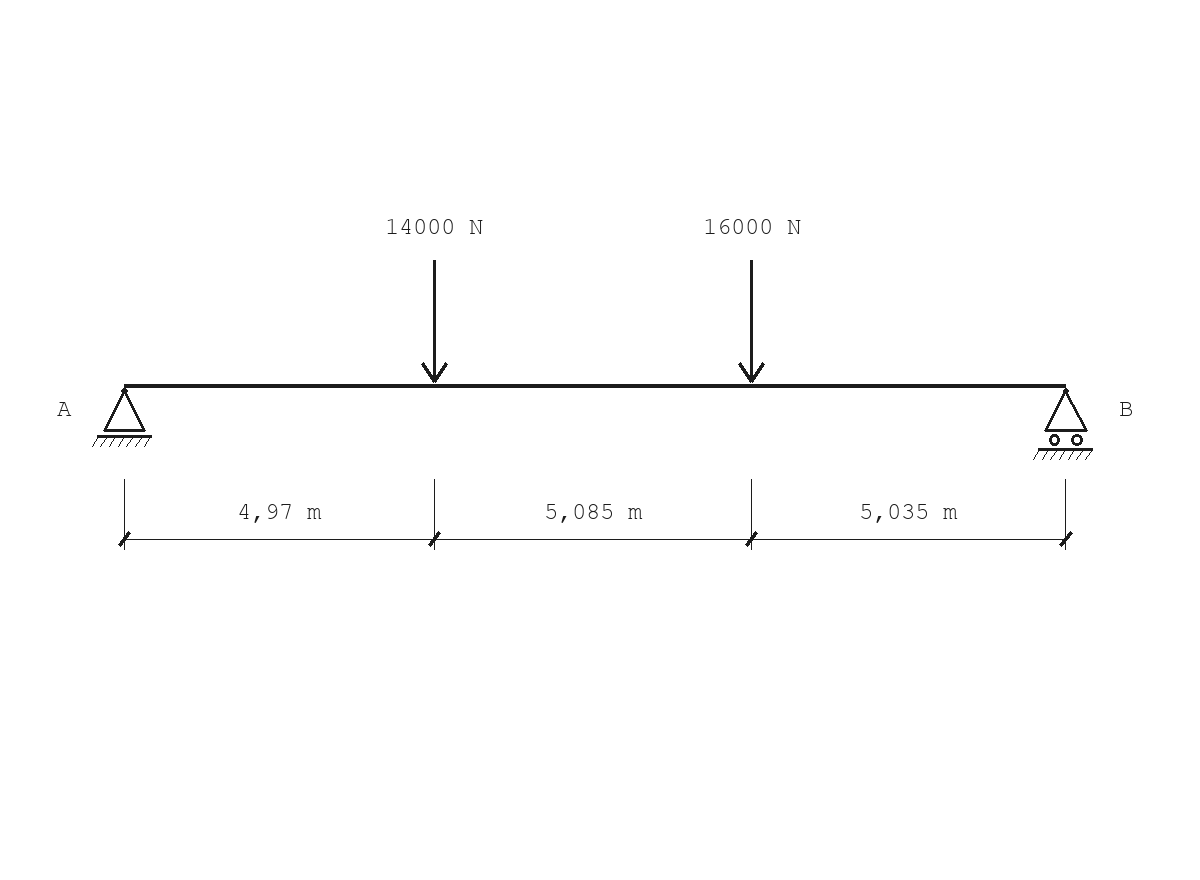pin_support: (92, 388, 152, 447)
point_load: (421, 260, 448, 383), (738, 260, 765, 383)
roller_support: (1033, 388, 1093, 460)
